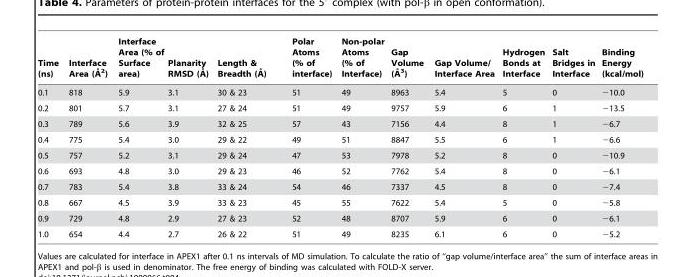table: (37, 36, 643, 238)
table column: (428, 36, 497, 238), (212, 36, 278, 238), (278, 36, 336, 238), (112, 36, 165, 238), (62, 36, 112, 238), (336, 36, 386, 238), (497, 36, 547, 238), (547, 36, 597, 238), (165, 36, 212, 238), (597, 36, 643, 238), (386, 36, 428, 238), (37, 36, 62, 238)
table column header: (37, 36, 643, 82)
table row: (37, 36, 643, 82), (37, 82, 643, 100), (37, 115, 643, 131), (37, 131, 643, 147), (37, 147, 643, 163), (37, 178, 643, 194), (37, 194, 643, 210), (37, 210, 643, 226), (37, 100, 643, 115), (37, 163, 643, 178), (37, 226, 643, 238)
